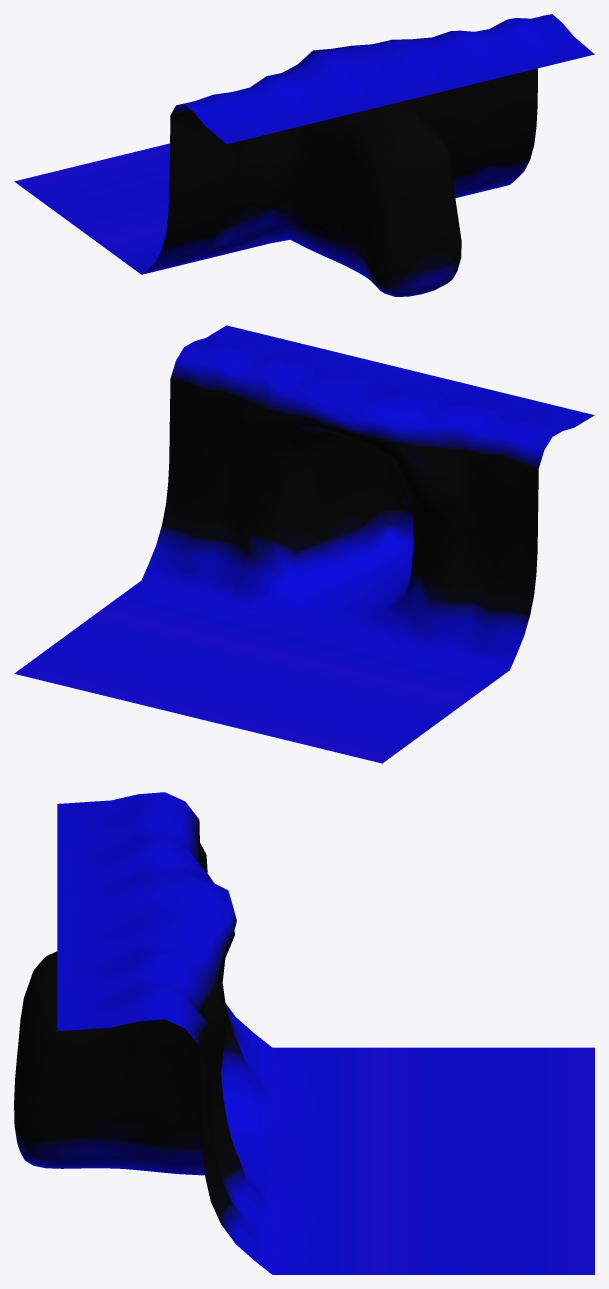
The model's file is WaterFallCliff02B 2M.fbx.
3 renders of one model, top to bottom at view 1: azimuth 30°, elevation 25°; view 2: azimuth 150°, elevation 25°; view 3: azimuth 270°, elevation 25°, orthographic. The views are drawn at different scales.
Visible parts, largest first — view 1: WaterFallCliff02B 2M; view 2: WaterFallCliff02B 2M; view 3: WaterFallCliff02B 2M.
Boxes of the visible parts, bbox=[...] form: WaterFallCliff02B 2M: bbox=[14, 14, 594, 296]; WaterFallCliff02B 2M: bbox=[14, 325, 594, 763]; WaterFallCliff02B 2M: bbox=[14, 792, 594, 1274].
Size of the model in its own units: 2 by 1.08 by 2.16.
